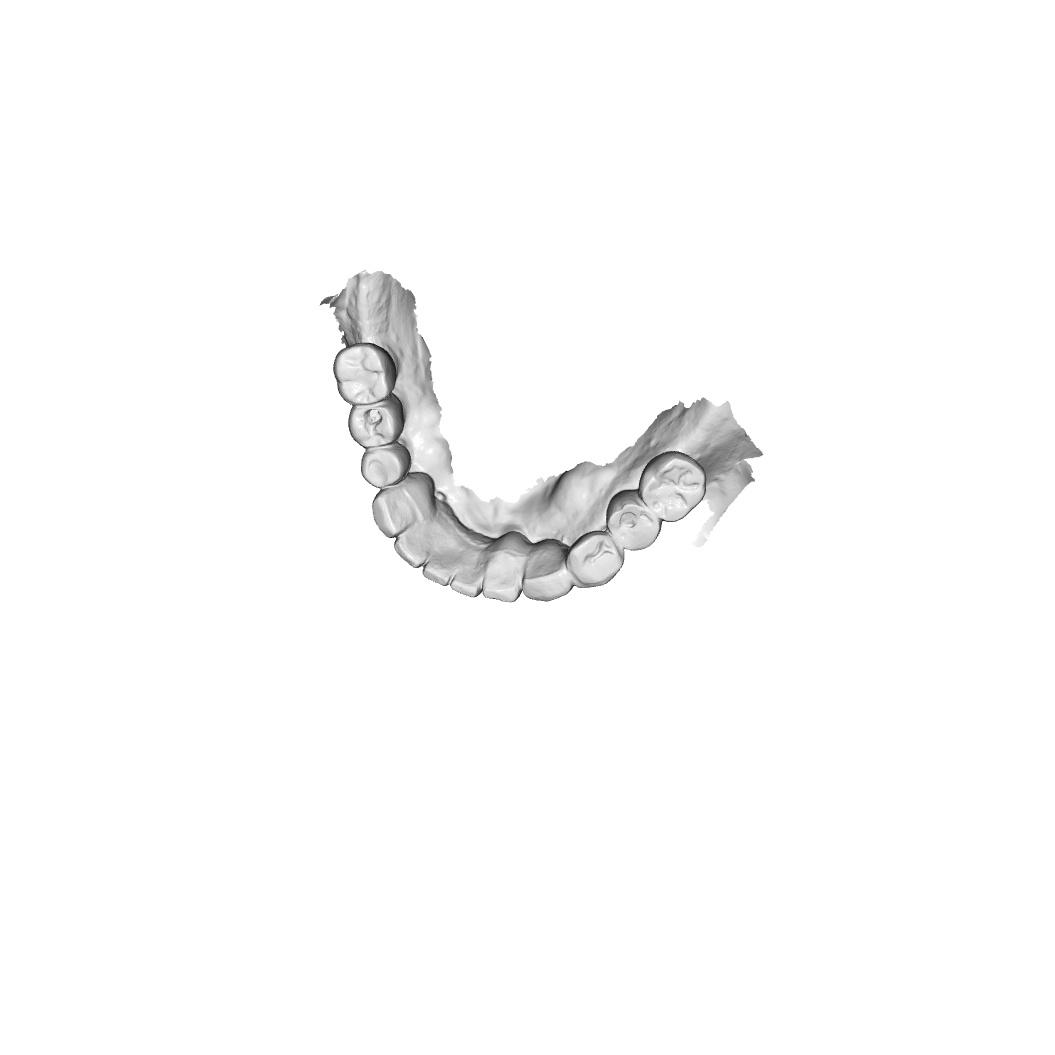canine: (522, 538, 573, 602), (370, 486, 420, 540)
incisor: (481, 555, 524, 603), (393, 526, 434, 570), (449, 563, 484, 599), (421, 550, 455, 587)
molar: (637, 450, 709, 524), (331, 342, 398, 405)
premolar: (606, 489, 663, 553), (565, 529, 625, 588), (347, 396, 406, 450), (359, 442, 413, 489)
